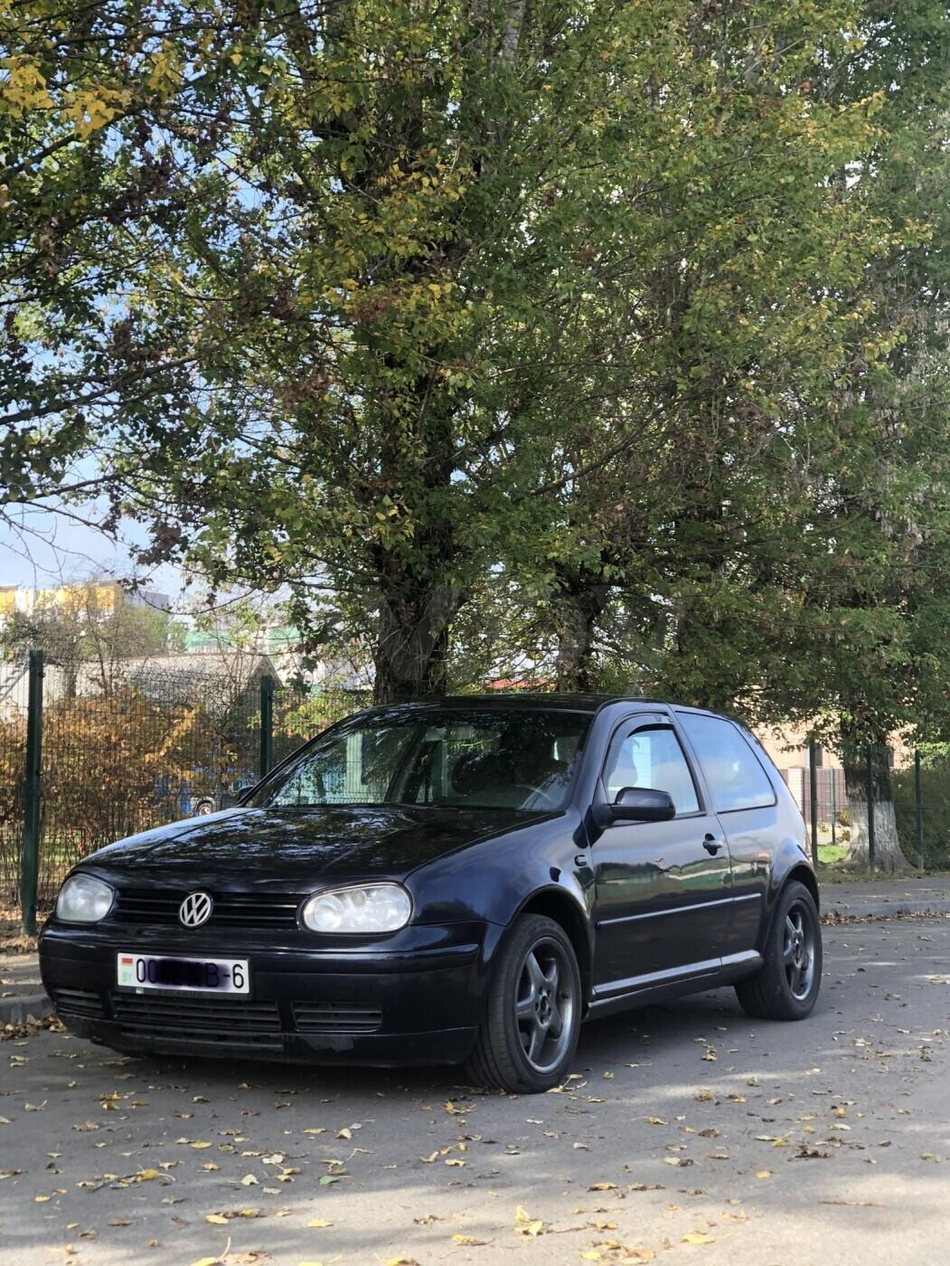Golf_1997-2006: (34, 681, 832, 1090)
